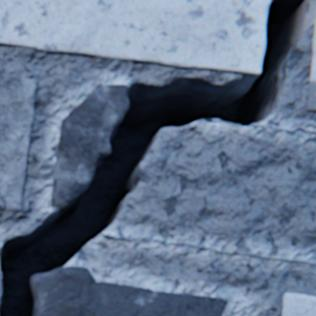brick: (0, 0, 270, 76), (0, 75, 36, 211), (305, 10, 315, 112), (281, 293, 315, 315)
broken_brick: (51, 86, 128, 207), (33, 267, 226, 315), (102, 235, 315, 263), (200, 120, 315, 135)
crack: (0, 0, 315, 315)
